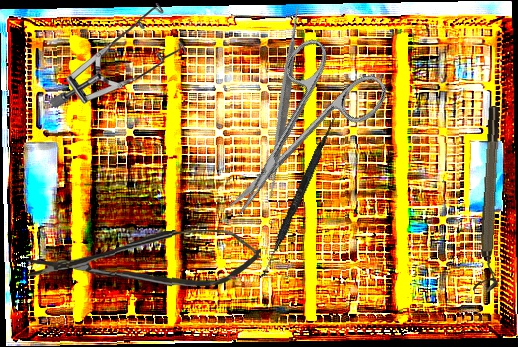Fixation Ring: (472, 105, 511, 293)
Iris Scissors: (192, 26, 393, 242)
Micro Scissor: (25, 228, 262, 290)
Spatula Surgical: (184, 1, 384, 204), (259, 115, 337, 281)
Speculum: (50, 3, 186, 107)
